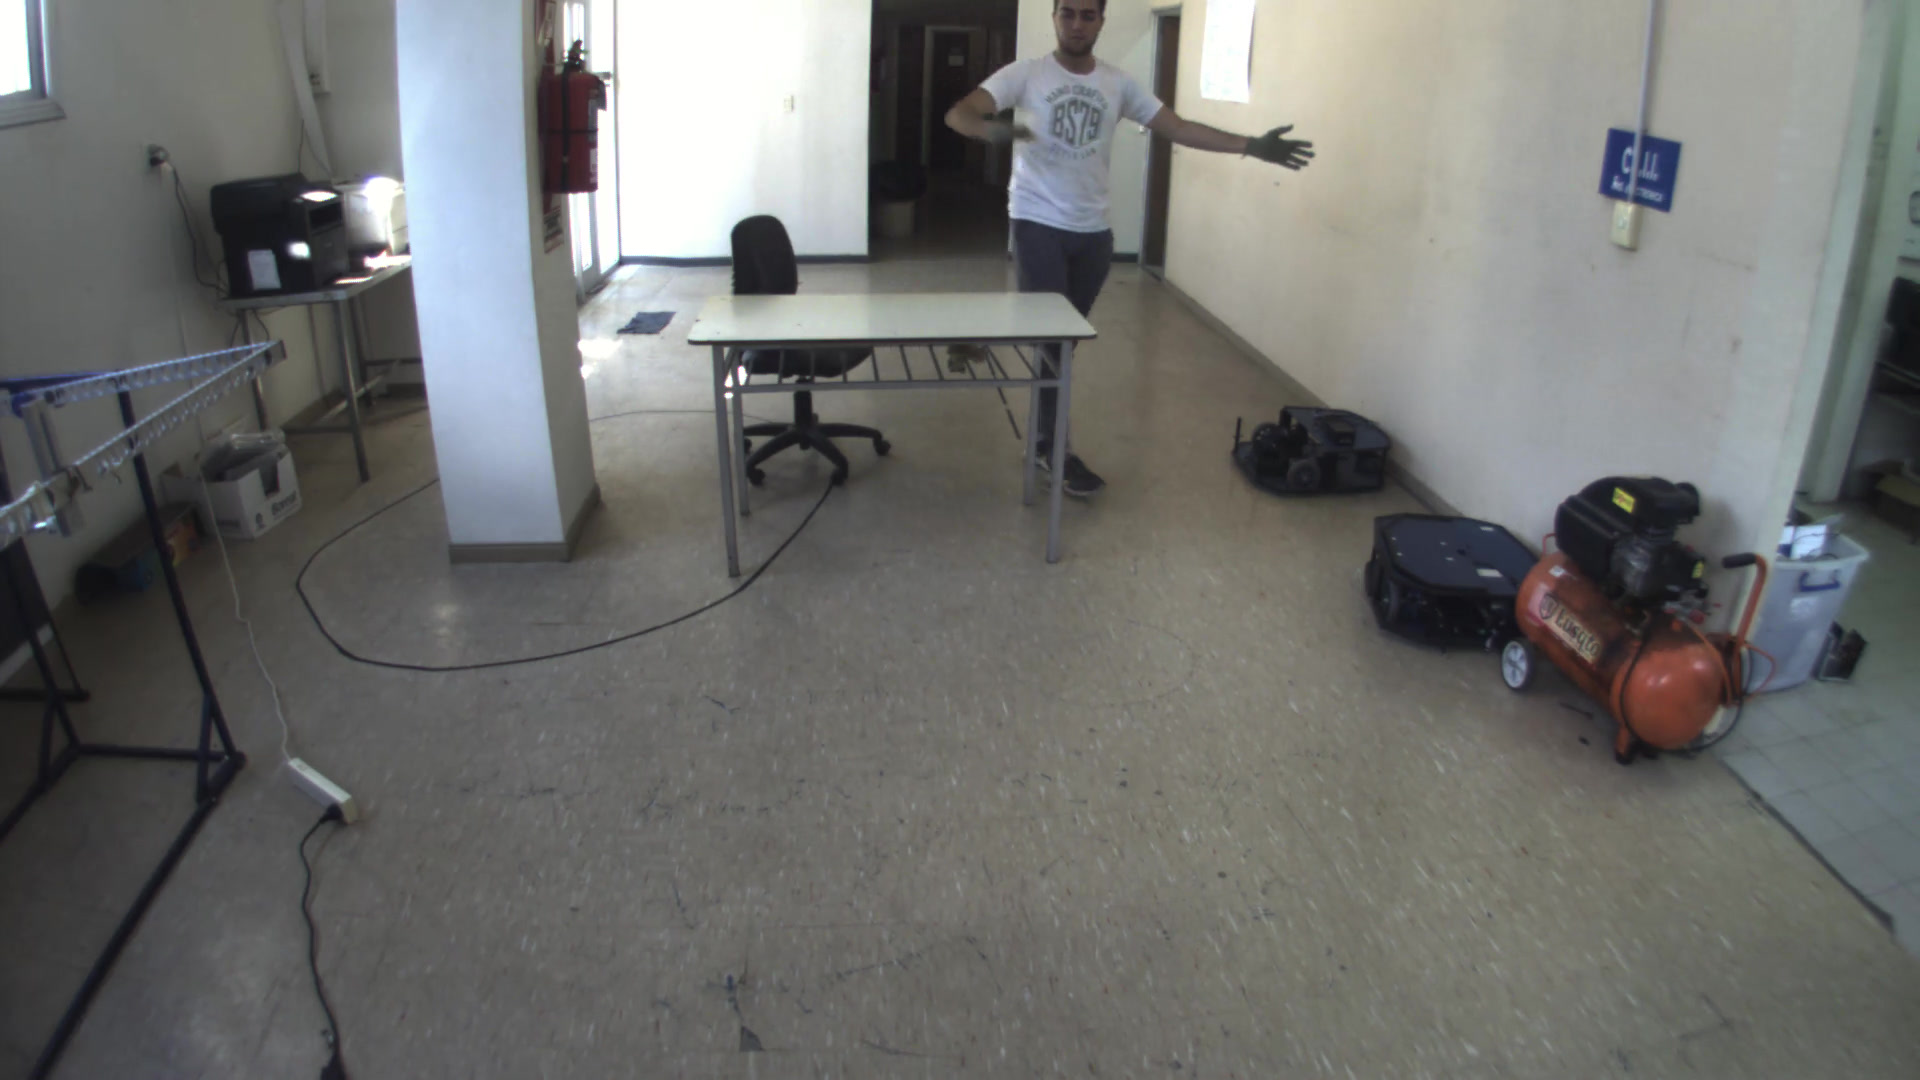hand: (1236, 116, 1327, 183), (971, 109, 1050, 164)
